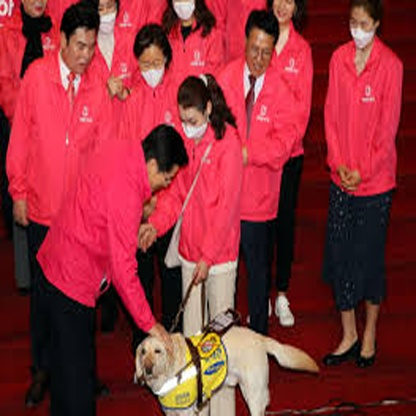guide-dog: (125, 313, 346, 416)
